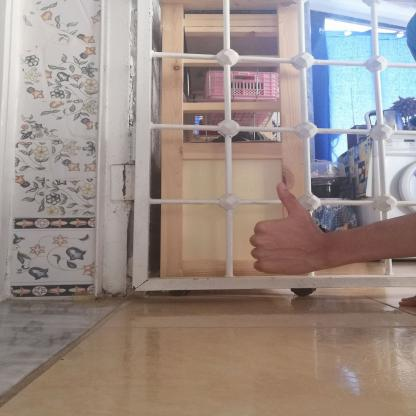ALIF: (235, 173, 338, 284)
